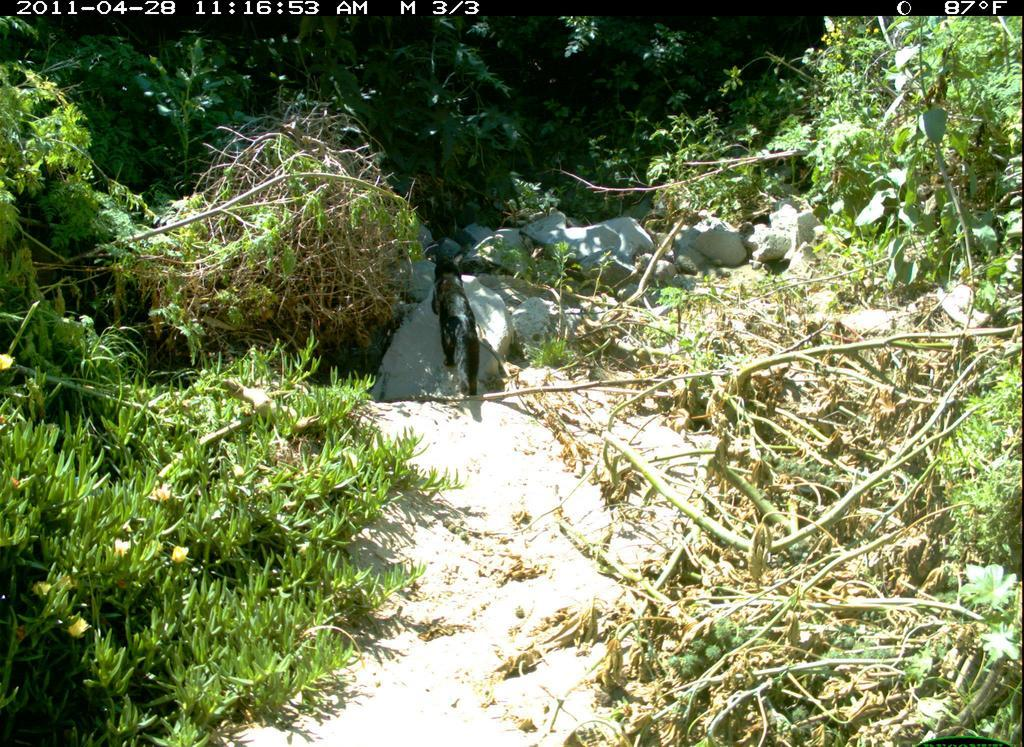cat: (425, 228, 492, 409)
